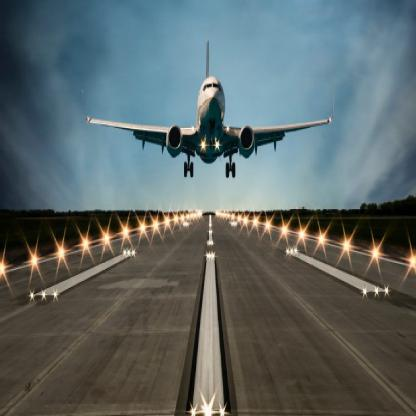CIV_Plane: (82, 36, 336, 181)
